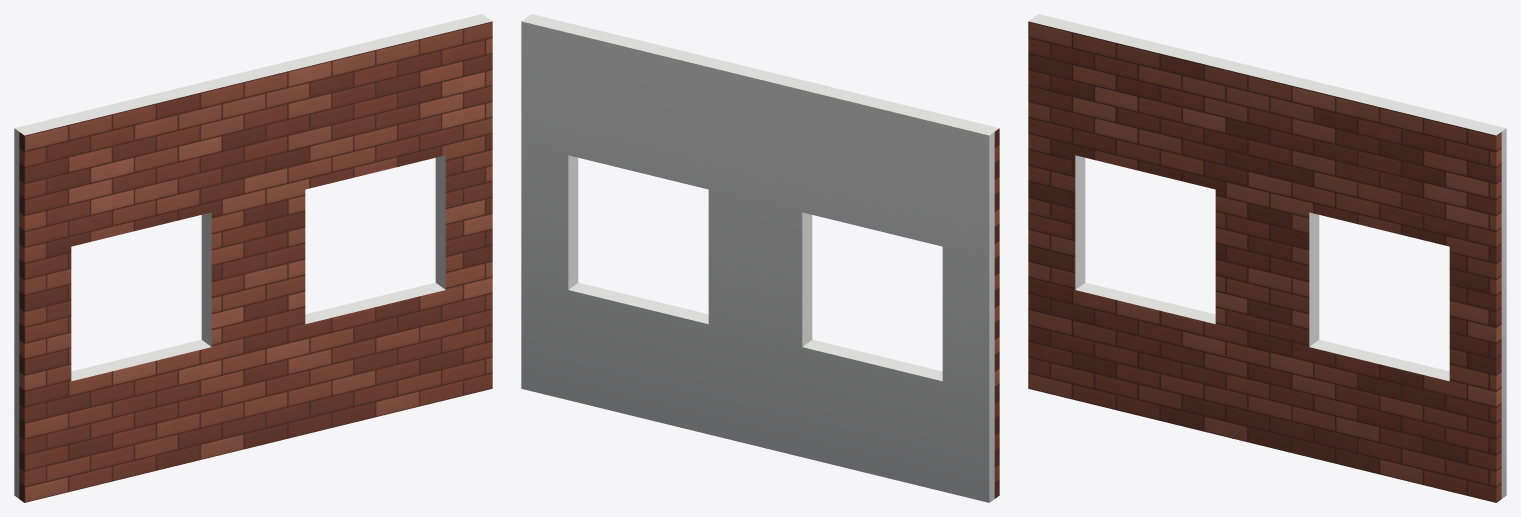
The model's file is janela_dupla_4m.glb.
The picture shows the model from 3 angles, left to right: view 1: azimuth 30°, elevation 25°; view 2: azimuth 150°, elevation 25°; view 3: azimuth 330°, elevation 25°; orthographic projection.
Visible parts, largest first — view 1: janela_dupla_4m; view 2: janela_dupla_4m; view 3: janela_dupla_4m.
Part boxes in pixels (bbox=[...]): janela_dupla_4m: bbox=[14, 14, 492, 502]; janela_dupla_4m: bbox=[521, 14, 999, 502]; janela_dupla_4m: bbox=[1028, 14, 1506, 502].
Bounding box in the file's own units: 4 × 3 × 0.15.
Materials: 3 (2 with a texture image).
